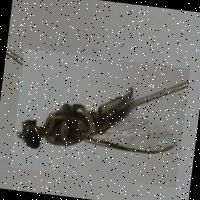Oriental-fruit-fly: (9, 47, 190, 186)
